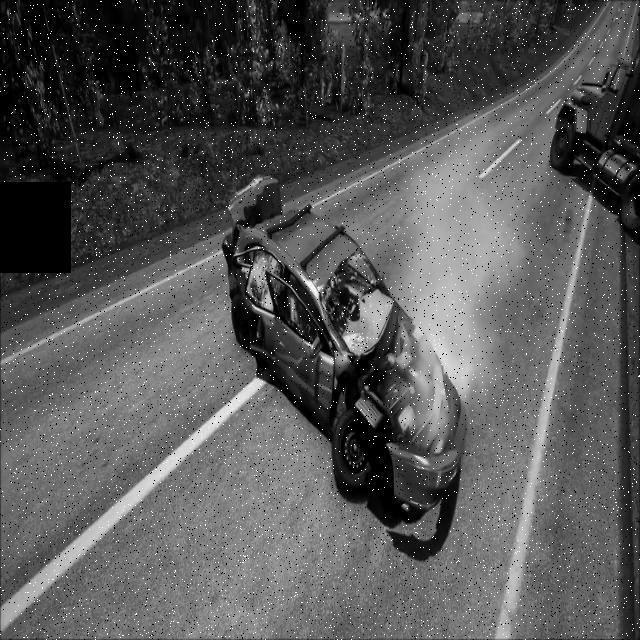accident: (220, 166, 470, 519)
vehicle: (546, 51, 640, 229)
